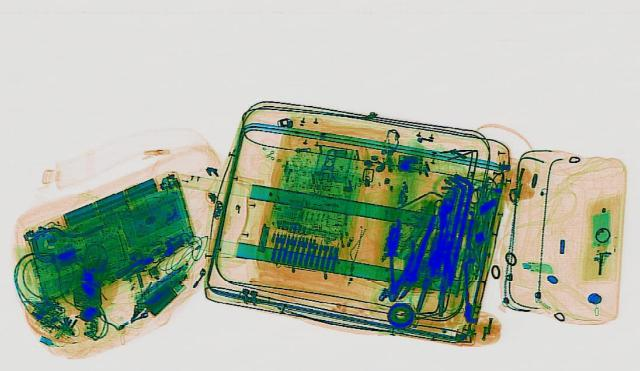Pliers: (377, 238, 417, 301)
